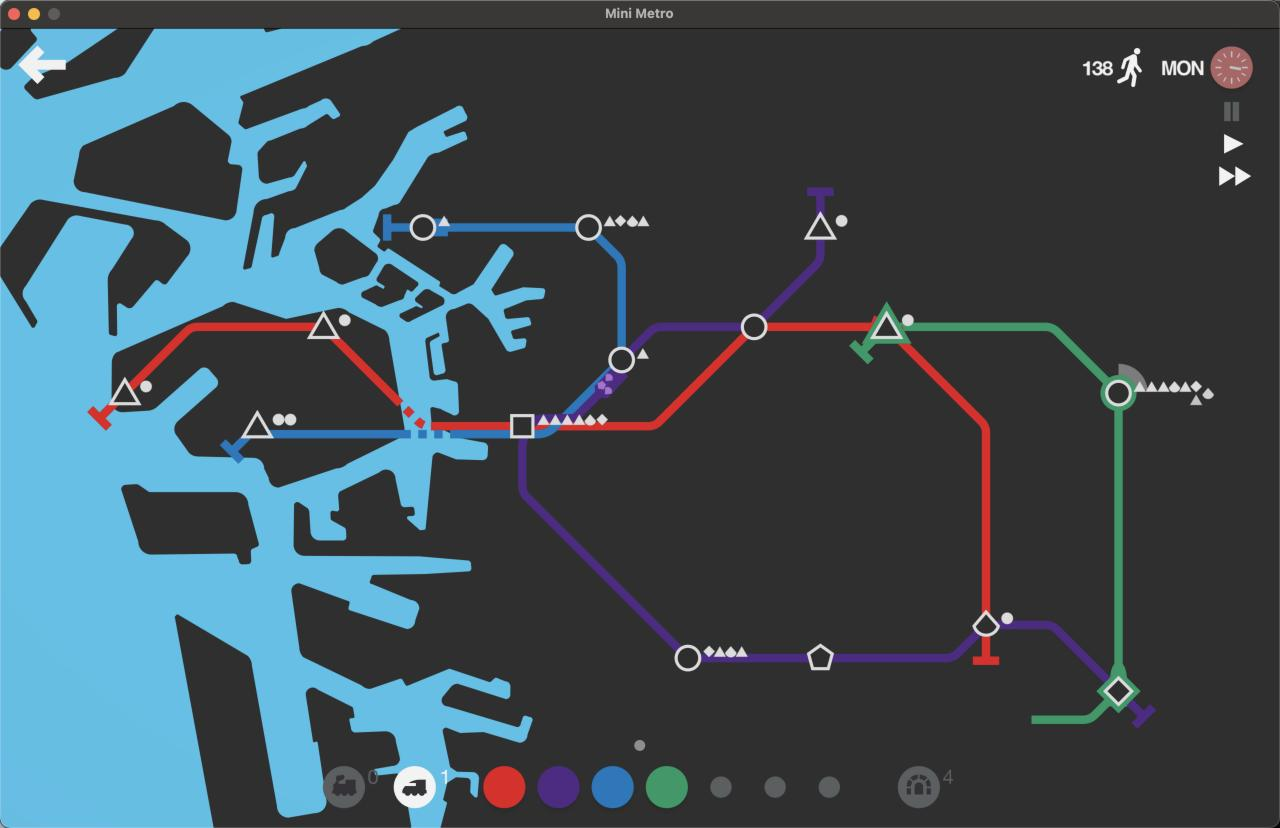CIRCLE: (1101, 375, 1137, 410), (409, 213, 438, 242), (575, 213, 603, 241), (607, 346, 635, 374), (674, 644, 702, 672), (741, 313, 768, 341)
GEM: (1099, 673, 1138, 710)
PENTAGON: (806, 643, 835, 672)
SQUARE: (509, 413, 535, 439)
TRIANGLE: (868, 309, 905, 342), (109, 376, 143, 409), (240, 409, 275, 440), (803, 211, 837, 242), (306, 310, 341, 340)
WEDGE: (971, 609, 1001, 639)
